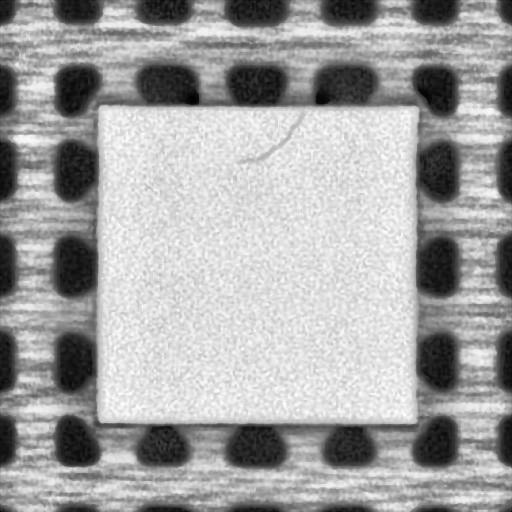DIE_CRACK: (234, 109, 305, 165)
